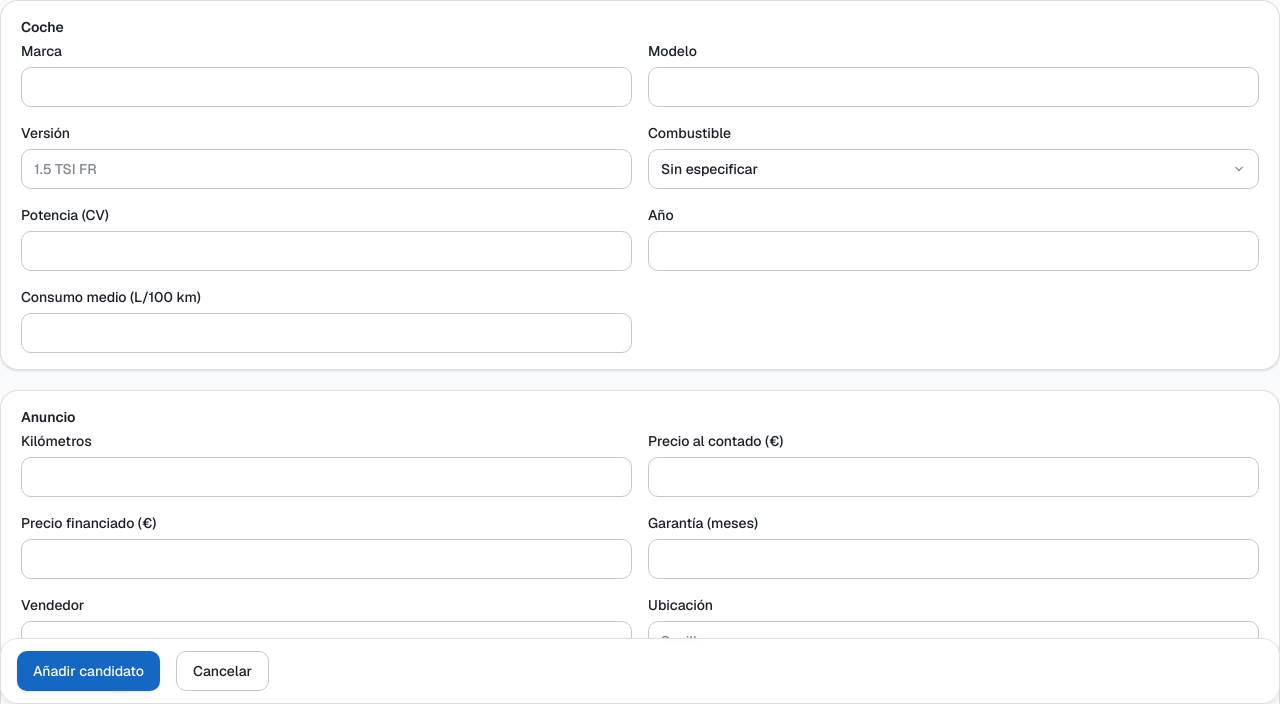
Test: CandidateForm › muestra los campos que la API rechaza
Type "León" into the field labelled "Modelo". click: (954, 87)
box: [648,67,1259,107]
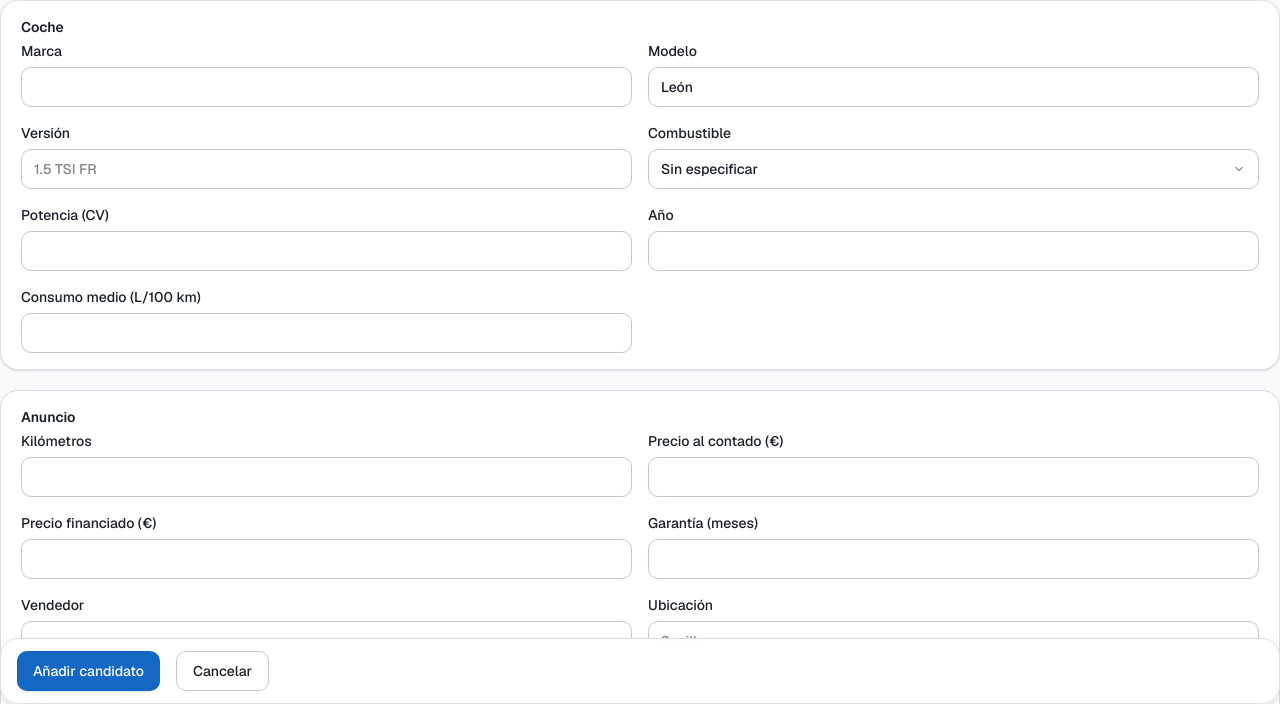
Click the button "Añadir candidato". click: (89, 671)
box: [17,651,160,691]
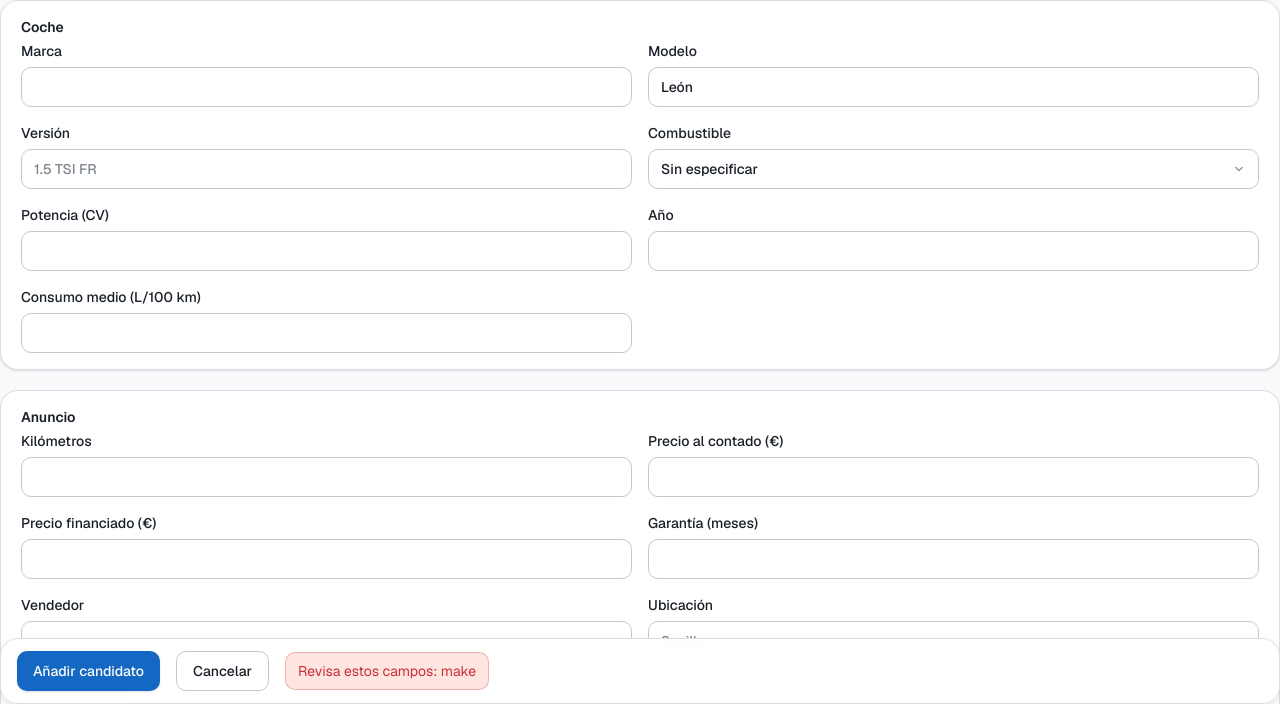
Now the message shows "make", box [298,662,476,680]
